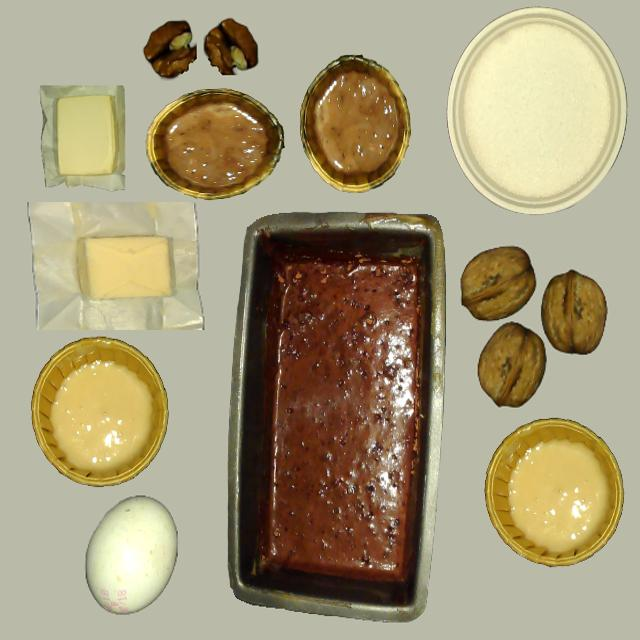Sugar: (461, 18, 613, 205)
Walnut: (476, 323, 546, 408), (460, 247, 534, 321), (541, 271, 606, 352)
